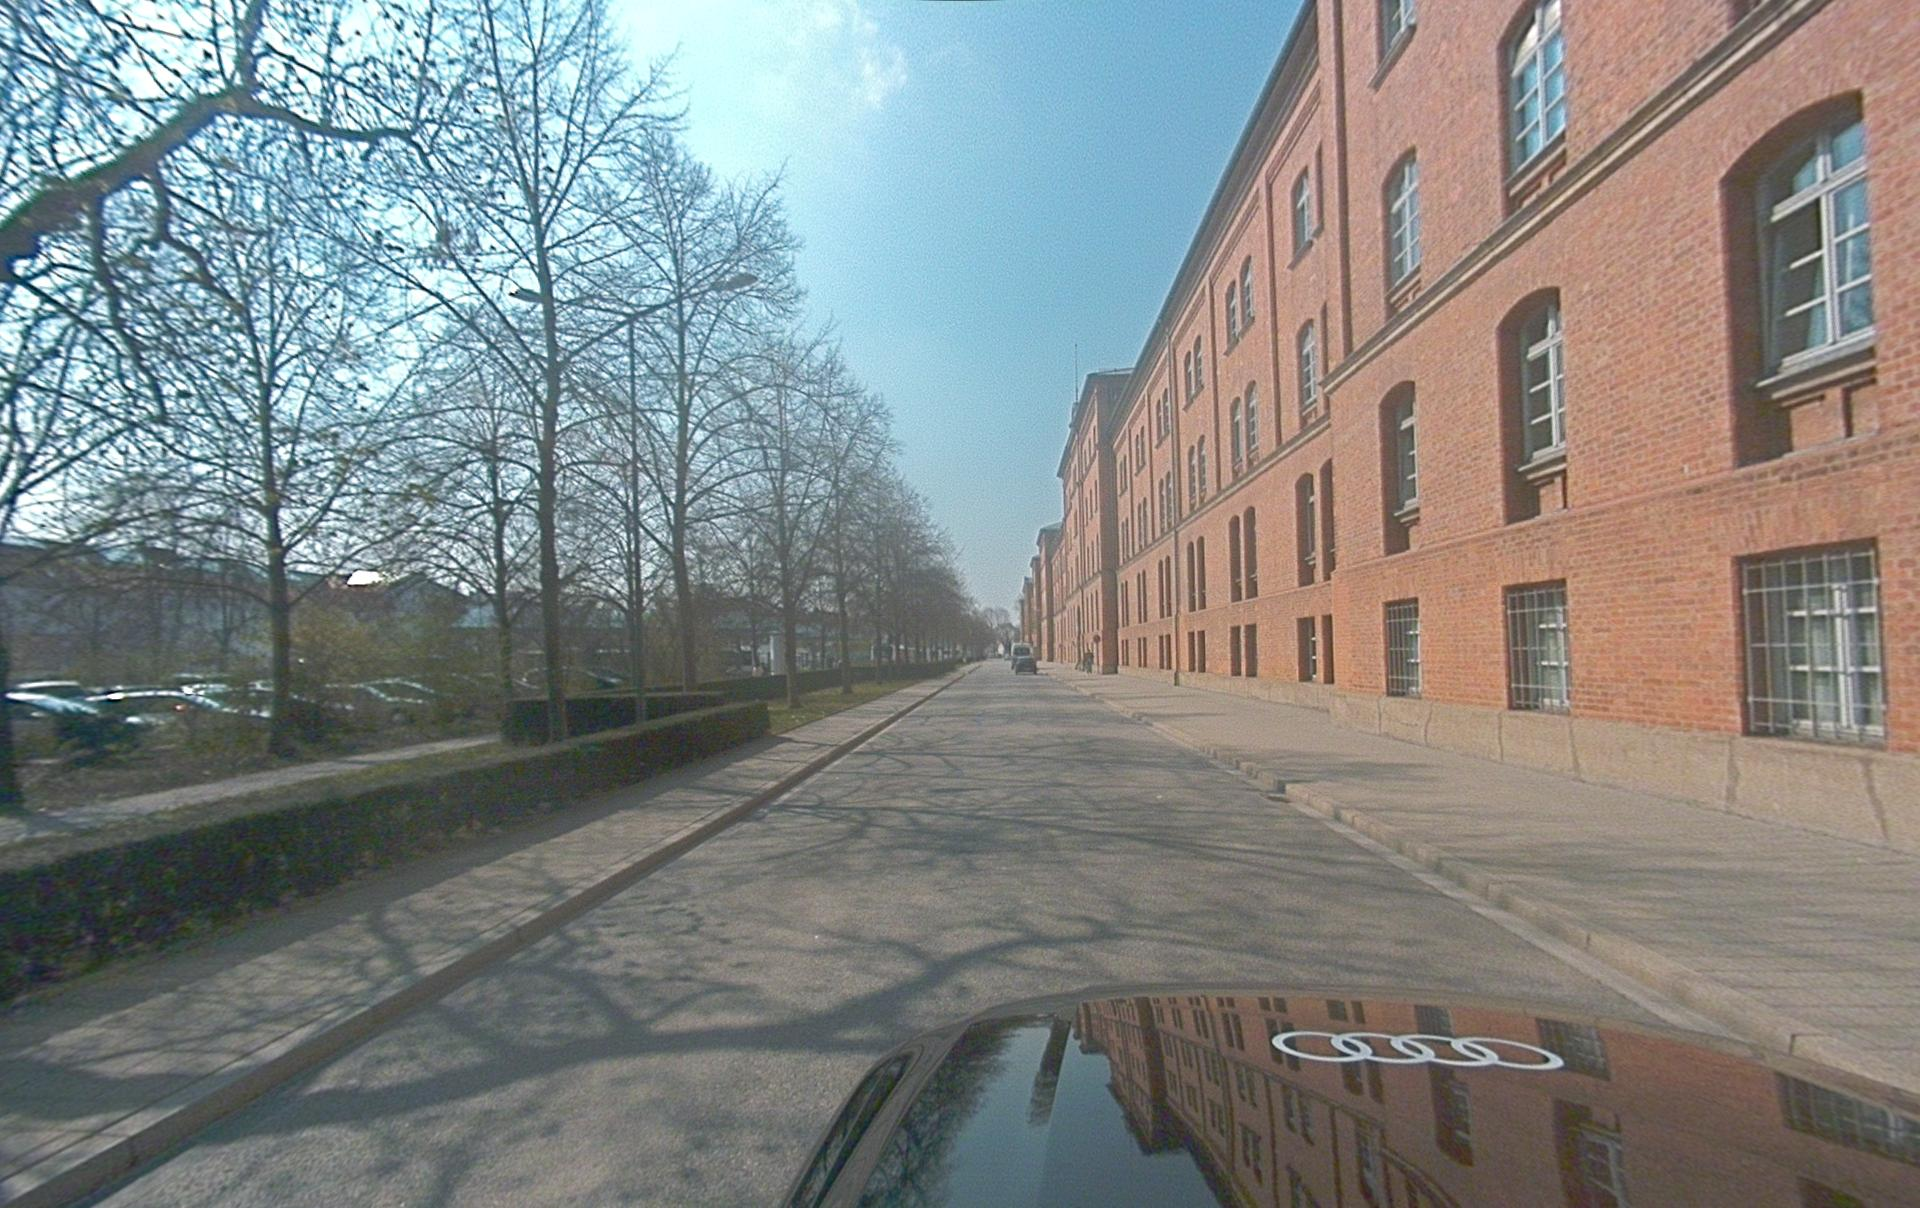car: (775, 980, 1920, 1207), (3, 679, 151, 749), (1011, 653, 1037, 673)
